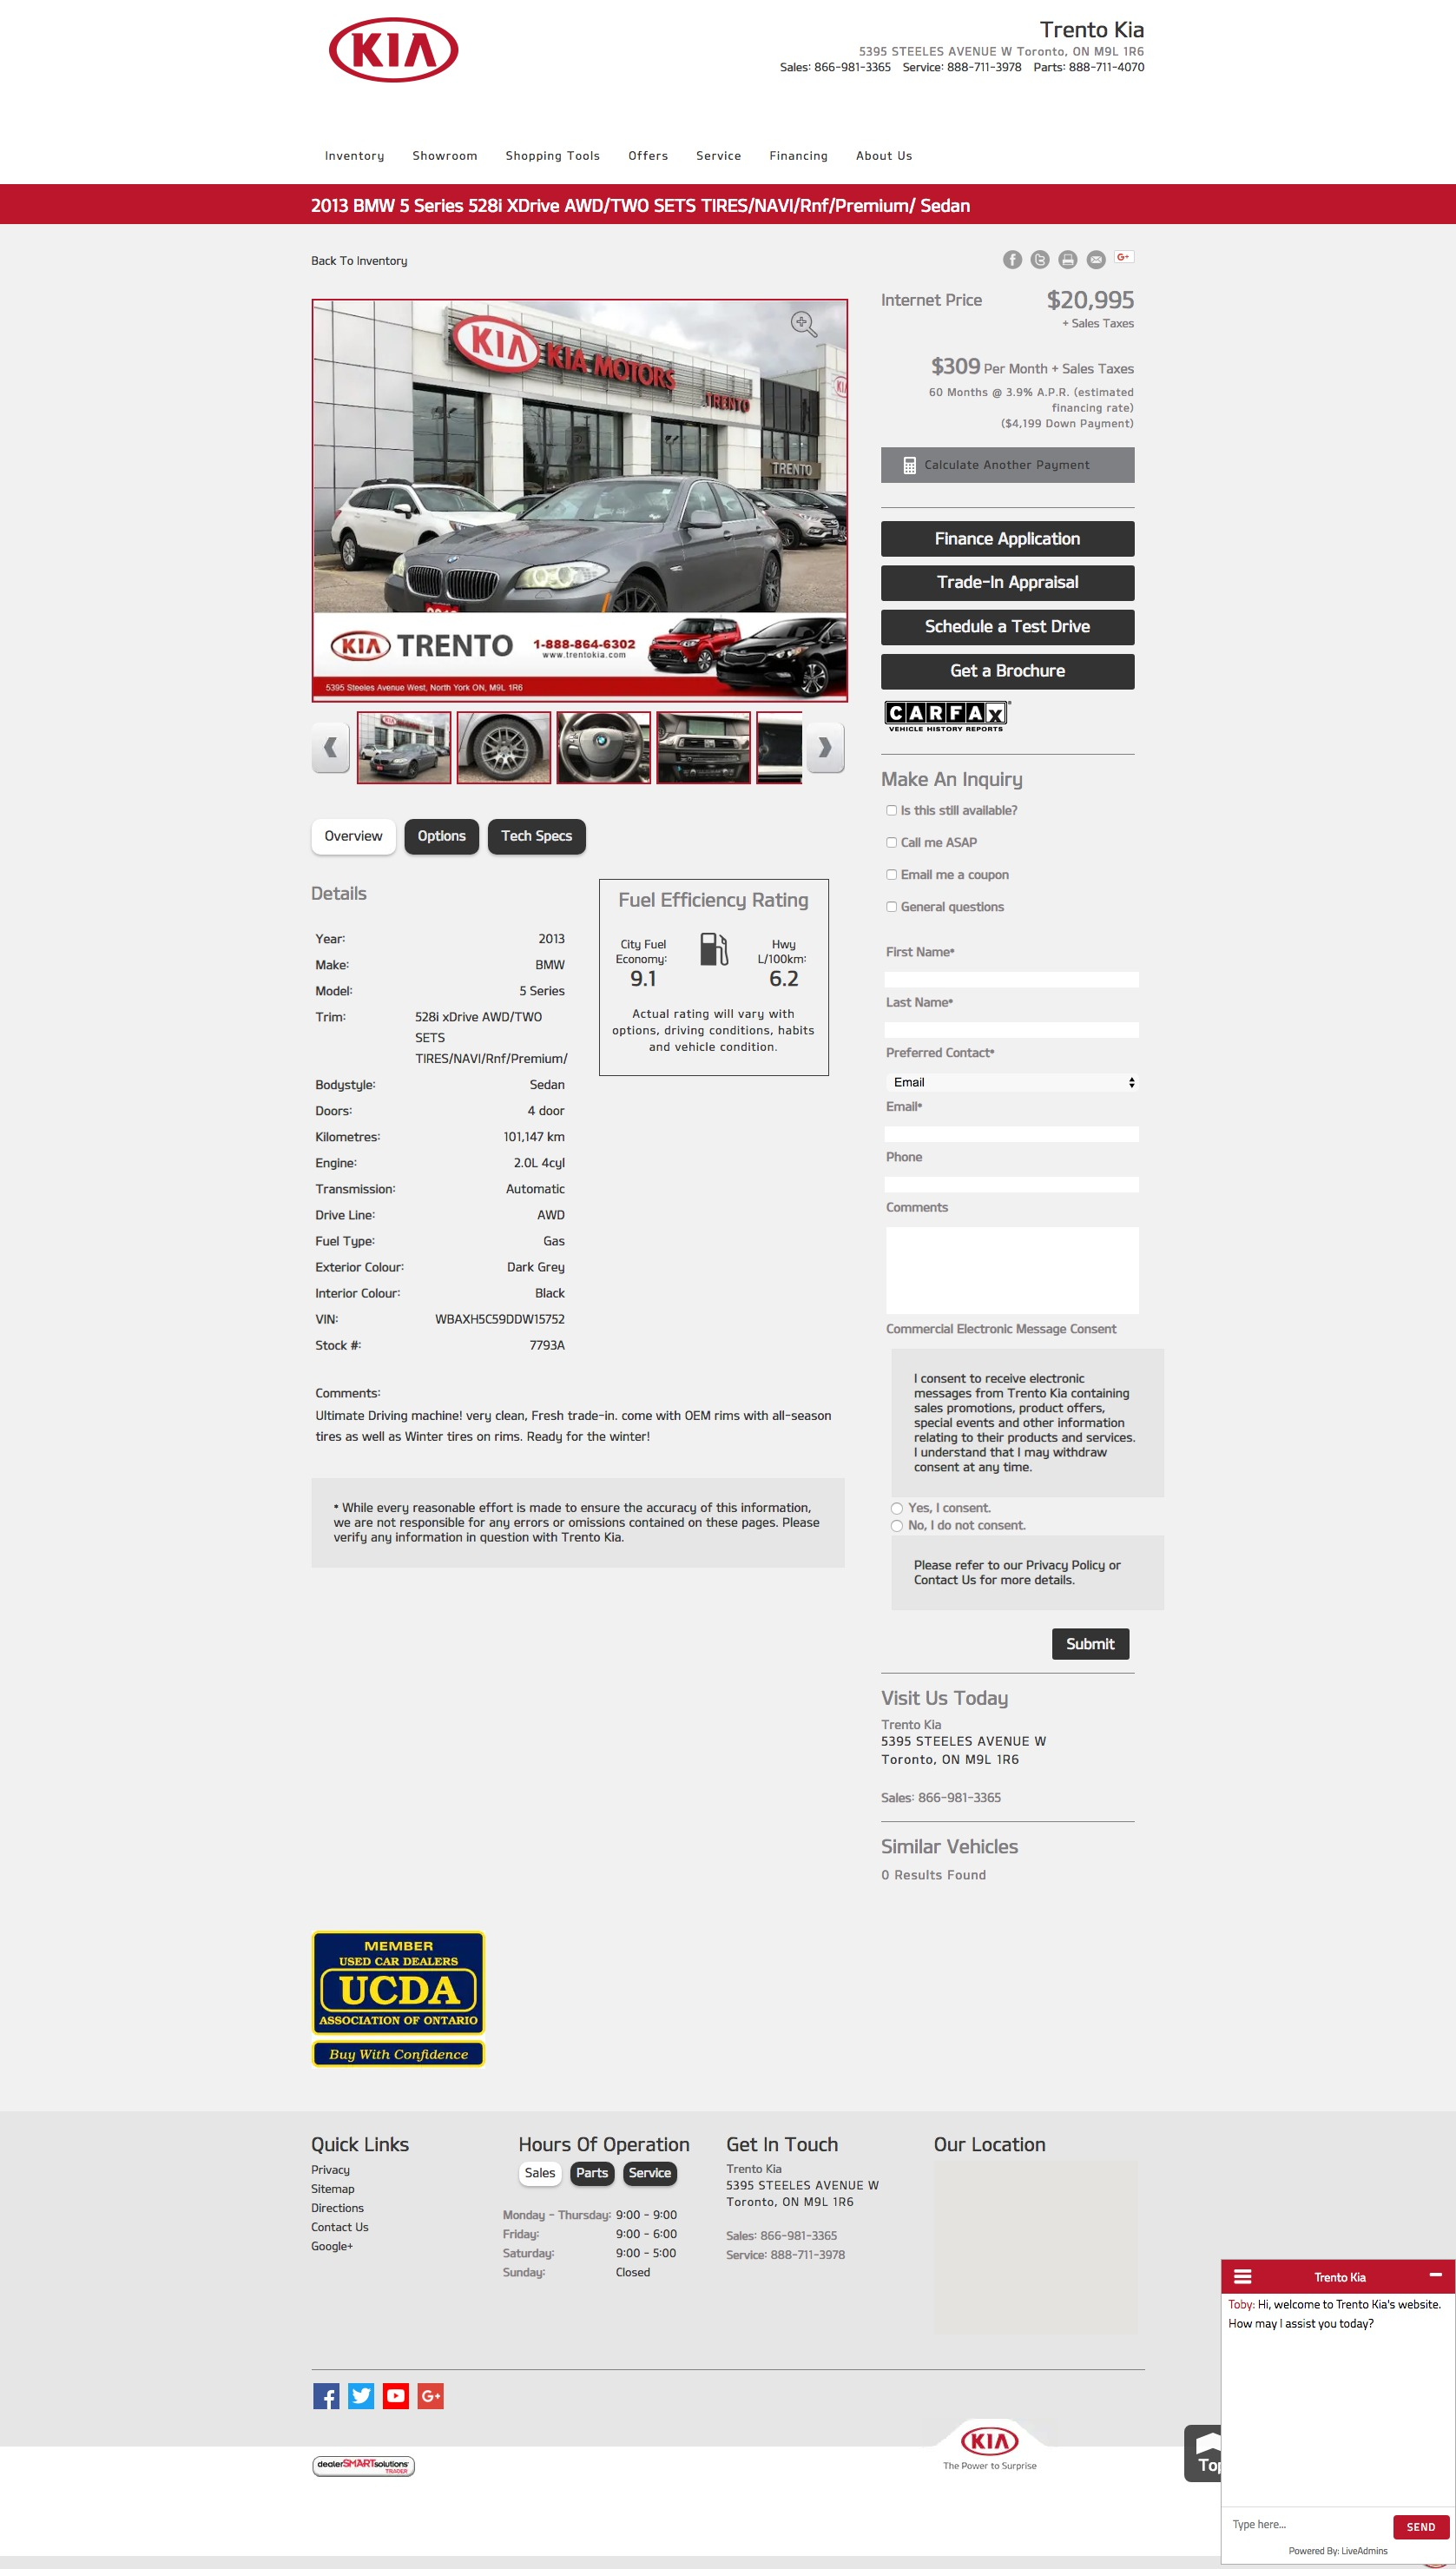car: (819, 736, 833, 759)
